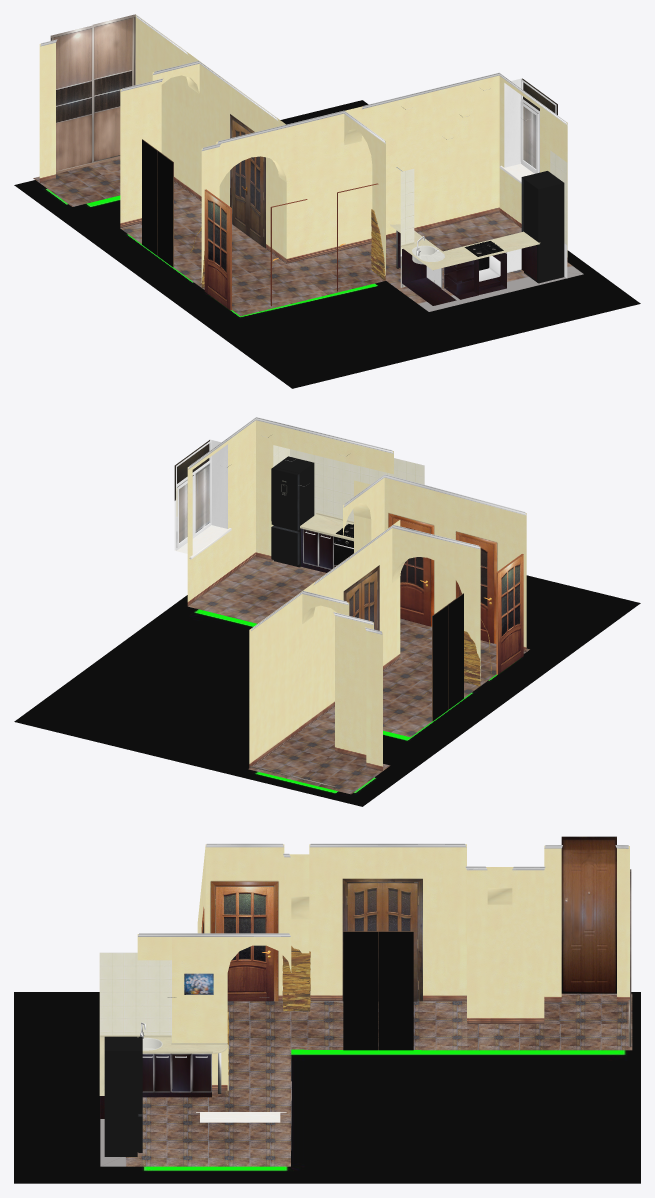
Rendered from apartment.glb.
The picture shows the model from 3 angles, top to bottom: view 1: azimuth 30°, elevation 25°; view 2: azimuth 150°, elevation 25°; view 3: azimuth 270°, elevation 25°; orthographic projection. The views are drawn at different scales.
Parts seen in each view (by area): view 1: kitchenWalls, allowedSpacePlane, corridorWalls, floor.001, corridorCloset, kitchenFloor, fridgeCase, bigRoomDoor, mainSurface.005, mainKitchenSurface, ceiling, corrdorLabDoubleLeafedDoorLeft (+3 smaller); view 2: allowedSpacePlane, corridorWalls, kitchenWalls, floor.001, kitchenFloor, bigRoomDoor, ceiling, toiletDoor, corrdorLabDoubleLeafedDoorRight, corrdorLabDoubleLeafedDoorLeft, fridgeUpperDoor, bathroomDoor (+6 smaller); view 3: allowedSpacePlane, corridorWalls, floor.001, kitchenWalls, kitchenFloor, entranceDoor, bigRoomDoor, corrdorBedroomDoubleLeafedDoorLeft, corrdorBedroomDoubleLeafedDoorRgith, fridgeCase, ceiling, corrdorLabDoubleLeafedDoorRight (+6 smaller).
Boxes of the visible parts, left/top/right/bottom form: kitchenWalls: left=216, top=75, right=567, bottom=287; allowedSpacePlane: left=14, top=100, right=640, bottom=388; corridorWalls: left=39, top=15, right=385, bottom=288; floor.001: left=33, top=158, right=385, bottom=316; corridorCloset: left=50, top=14, right=135, bottom=173; kitchenFloor: left=344, top=212, right=583, bottom=311; fridgeCase: left=524, top=172, right=564, bottom=283; bigRoomDoor: left=204, top=189, right=231, bottom=310; mainSurface.005: left=398, top=232, right=536, bottom=305; mainKitchenSurface: left=390, top=224, right=540, bottom=270; ceiling: left=40, top=15, right=567, bottom=150; corrdorLabDoubleLeafedDoorLeft: left=157, top=151, right=173, bottom=267; allowedSpacePlane: left=14, top=575, right=640, bottom=806; corridorWalls: left=249, top=477, right=526, bottom=771; kitchenWalls: left=174, top=420, right=424, bottom=606; floor.001: left=248, top=618, right=529, bottom=794; kitchenFloor: left=188, top=557, right=326, bottom=623; bigRoomDoor: left=496, top=554, right=523, bottom=674; ceiling: left=188, top=417, right=526, bottom=634; toiletDoor: left=392, top=517, right=430, bottom=626; corrdorLabDoubleLeafedDoorRight: left=432, top=604, right=448, bottom=721; corrdorLabDoubleLeafedDoorLeft: left=448, top=593, right=463, bottom=709; fridgeUpperDoor: left=271, top=467, right=299, bottom=530; bathroomDoor: left=459, top=535, right=493, bottom=643; allowedSpacePlane: left=14, top=992, right=640, bottom=1183; corridorWalls: left=197, top=844, right=629, bottom=1023; floor.001: left=227, top=993, right=632, bottom=1081; kitchenWalls: left=99, top=934, right=291, bottom=1122; kitchenFloor: left=100, top=1081, right=291, bottom=1166; entranceDoor: left=561, top=836, right=616, bottom=993; bigRoomDoor: left=216, top=886, right=273, bottom=1001; corrdorBedroomDoubleLeafedDoorLeft: left=378, top=931, right=413, bottom=1050; corrdorBedroomDoubleLeafedDoorRgith: left=343, top=931, right=378, bottom=1050; fridgeCase: left=104, top=1036, right=137, bottom=1156; ceiling: left=138, top=843, right=628, bottom=997; corrdorLabDoubleLeafedDoorRight: left=382, top=883, right=417, bottom=1001.
Size of the model in its own units: 7.75 by 3.11 by 10.72.
Materials: 16 (15 with a texture image).
